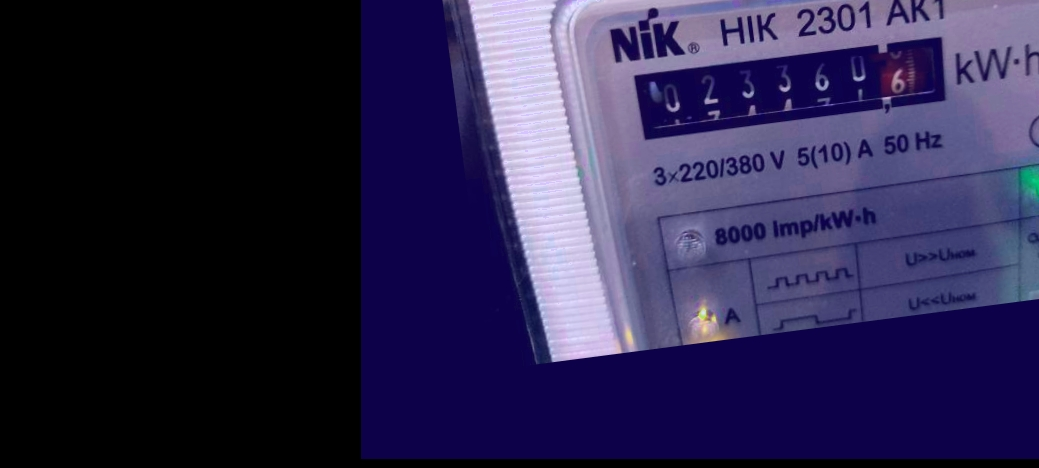0: (659, 79, 684, 114), (847, 51, 868, 83)
2: (696, 70, 723, 107)
3: (734, 66, 759, 100), (772, 60, 795, 93)
6: (808, 58, 832, 93), (885, 63, 909, 95)
screen: (613, 16, 965, 157)
